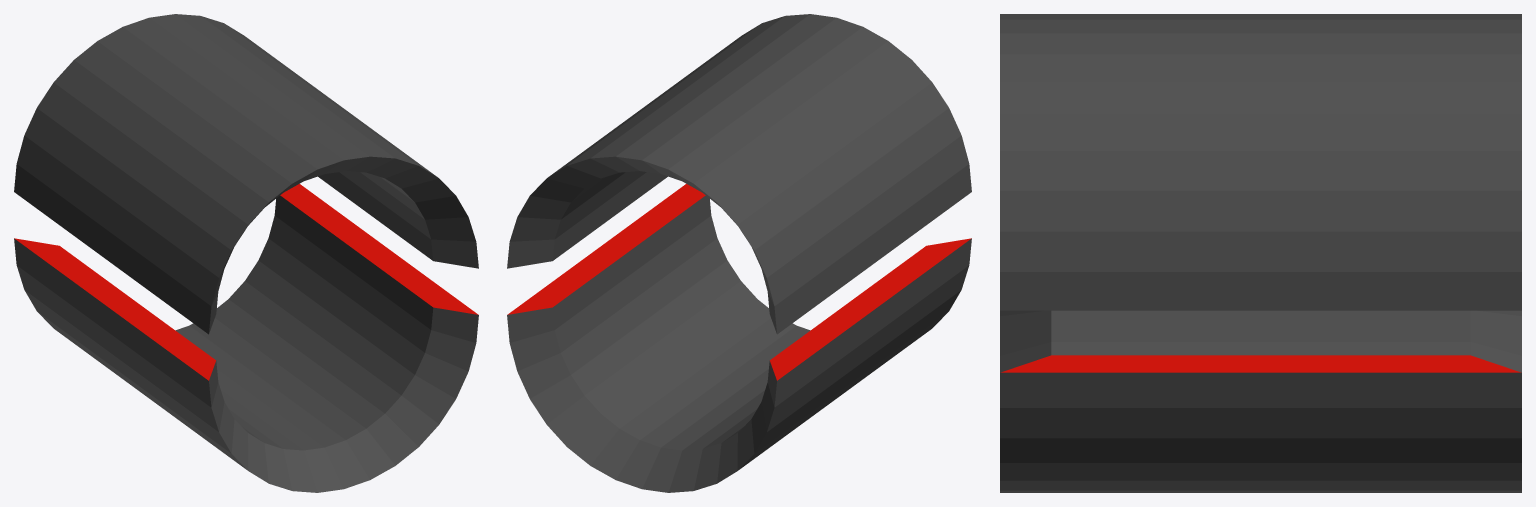
The model's file is pipe_vertical (1).fbx.
3 renders of one model, left to right at view 1: azimuth 30°, elevation 25°; view 2: azimuth 150°, elevation 25°; view 3: azimuth 270°, elevation 25°, orthographic. The views are drawn at different scales.
Parts seen in each view (by area): view 1: Circle, Circle.001; view 2: Circle, Circle.001; view 3: Circle, Circle.001.
Boxes of the visible parts, x1=… form: Circle: x1=14, y1=14, x2=478, y2=334; Circle.001: x1=14, y1=184, x2=478, y2=492; Circle: x1=507, y1=14, x2=971, y2=334; Circle.001: x1=507, y1=184, x2=971, y2=492; Circle: x1=1000, y1=14, x2=1521, y2=310; Circle.001: x1=1000, y1=310, x2=1521, y2=492.
Bounding box in the file's own units: 200 × 233 × 250.
